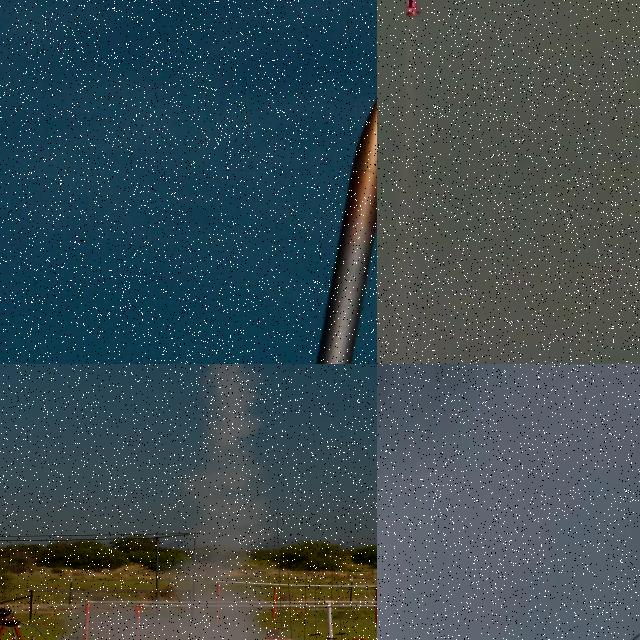Rocket: (280, 83, 377, 364), (625, 616, 640, 640)
